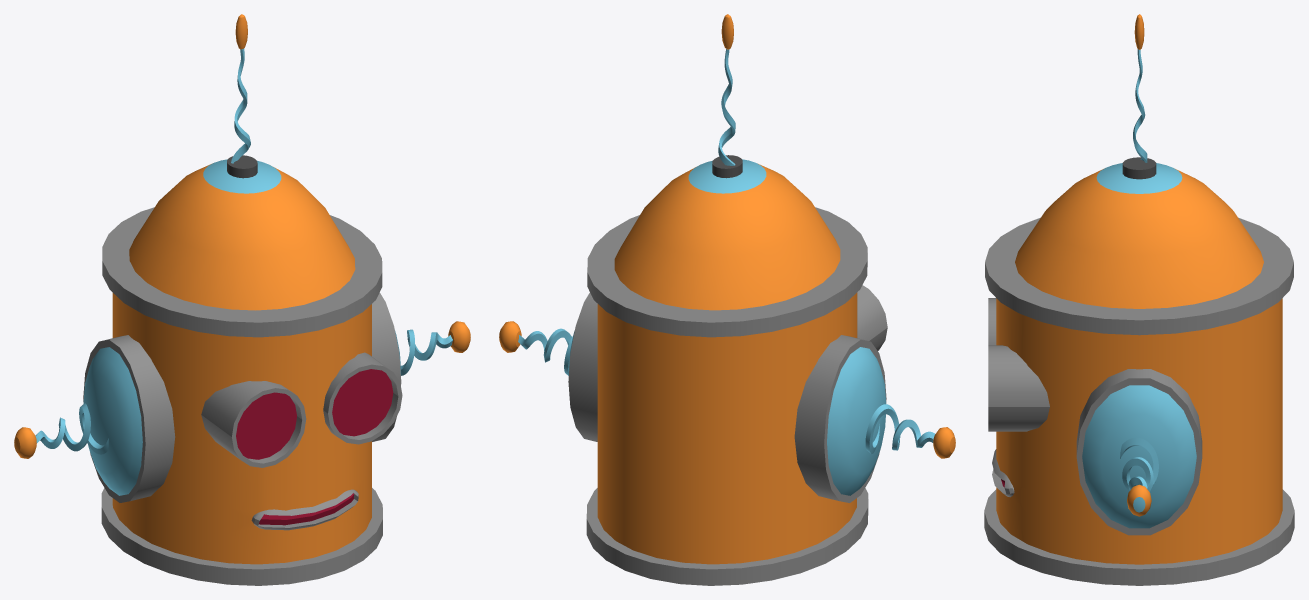
Rendered from Robot_Head.FBX.
3 views of the same model, side by side, from view 1: azimuth 30°, elevation 25°; view 2: azimuth 150°, elevation 25°; view 3: azimuth 270°, elevation 25° (orthographic).
Parts seen in each view (by area): view 1: Robot_Head; view 2: Robot_Head; view 3: Robot_Head.
Part boxes in pixels (x1=…): Robot_Head: x1=14, y1=14, x2=470, y2=585; Robot_Head: x1=499, y1=14, x2=955, y2=585; Robot_Head: x1=984, y1=14, x2=1294, y2=585.
Size of the model in its own units: 1.05 by 1.12 by 0.6155.
